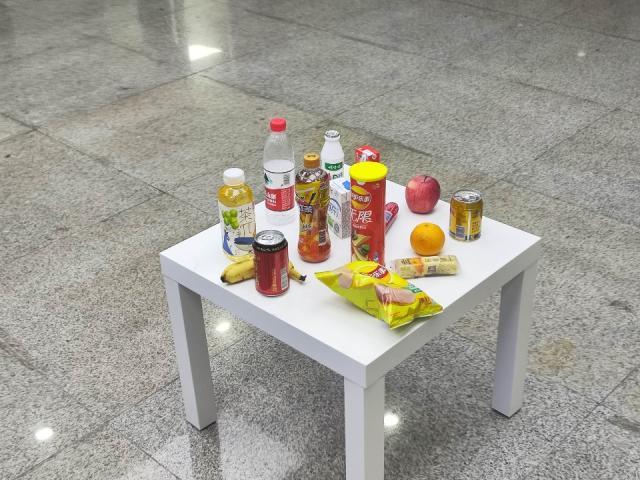Canned_drinks: (252, 225, 292, 297)
